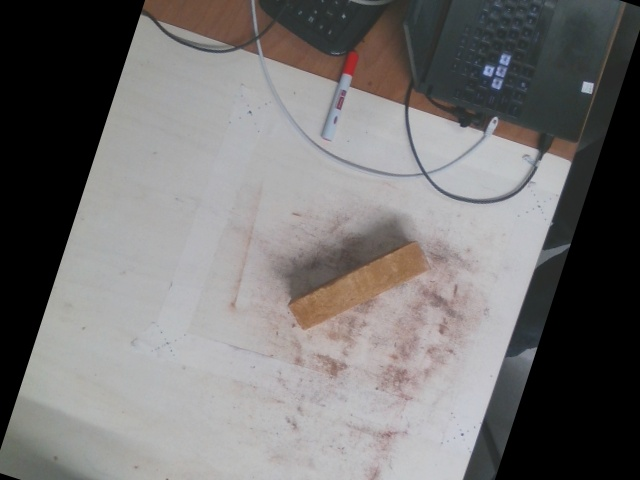brick-side: (291, 244, 429, 326)
